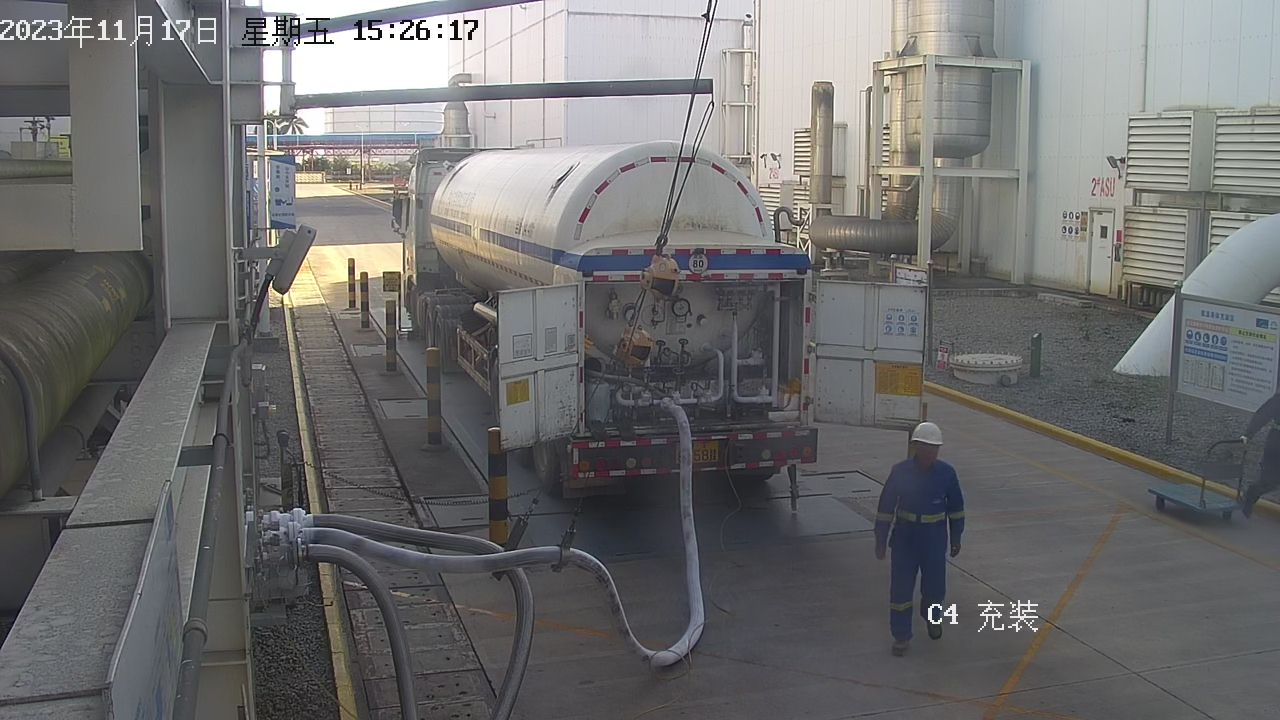Head_with_Helmet: (891, 410, 960, 468)
Uniform: (852, 455, 999, 647)
